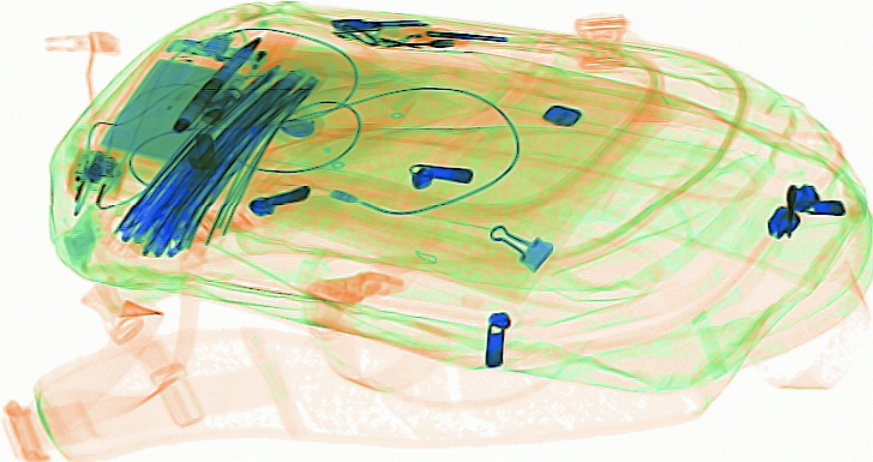lighter: (238, 21, 303, 88)
